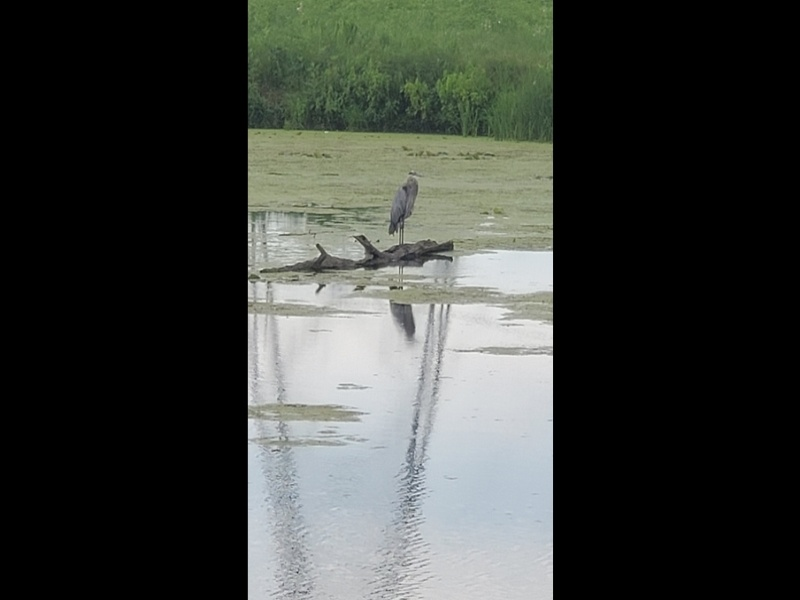heron: (387, 169, 422, 246)
